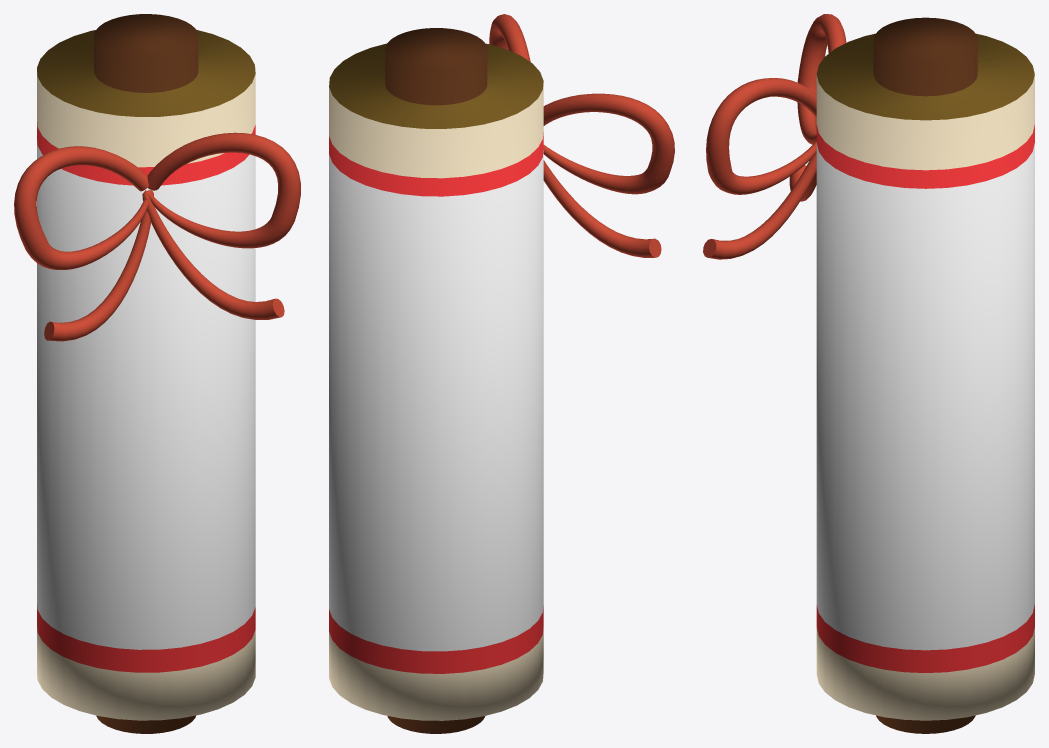
File: Ninja-Scroll2_241015.fbx
3 renders of one model, left to right at view 1: azimuth 30°, elevation 25°; view 2: azimuth 150°, elevation 25°; view 3: azimuth 270°, elevation 25°, orthographic.
Parts seen in each view (by area): view 1: Cylinder, BézierCurve.001, BézierCurve; view 2: Cylinder, BézierCurve, BézierCurve.001; view 3: Cylinder, BézierCurve.001, BézierCurve.
Part boxes in pixels (left/top/right/bottom): Cylinder: left=37, top=14, right=255, bottom=733; BézierCurve.001: left=142, top=132, right=300, bottom=319; BézierCurve: left=14, top=146, right=153, bottom=341; Cylinder: left=329, top=28, right=543, bottom=733; BézierCurve: left=543, top=93, right=674, bottom=257; BézierCurve.001: left=489, top=14, right=530, bottom=61; Cylinder: left=816, top=17, right=1034, bottom=733; BézierCurve.001: left=703, top=78, right=816, bottom=259; BézierCurve: left=789, top=14, right=846, bottom=201.
Bounding box in the file's own units: 296 × 681 × 304.
